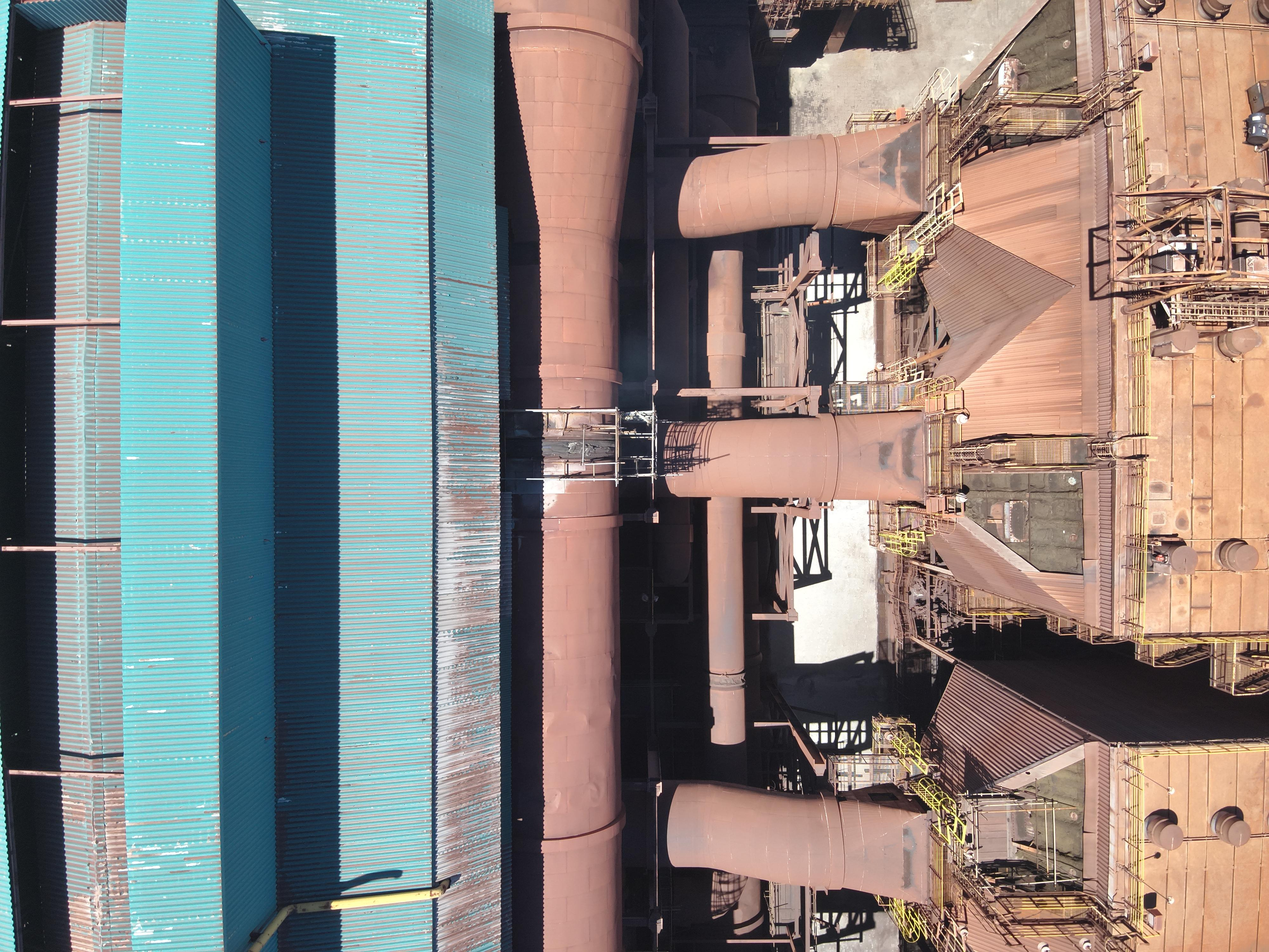Failures: (943, 9, 1084, 162), (952, 463, 1087, 578), (1008, 754, 1093, 891), (505, 435, 611, 463)
